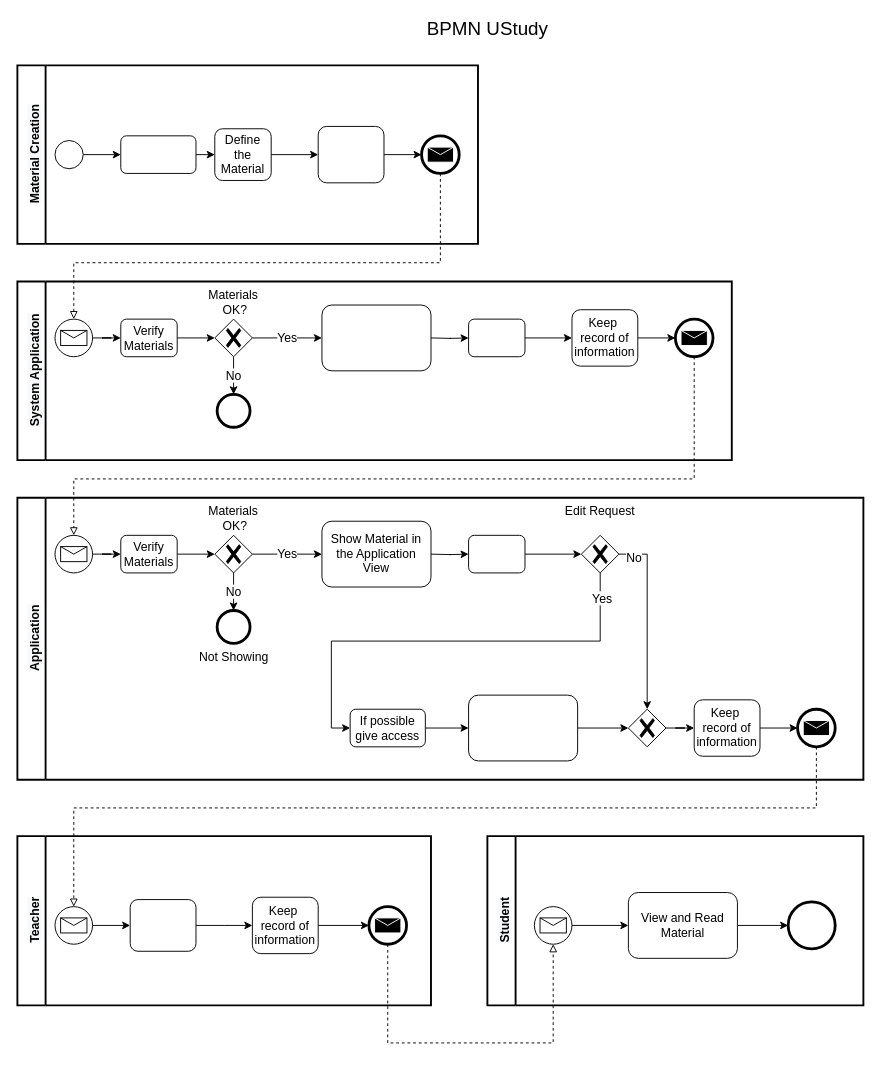
The diagram is 880 pixels wide and 1067 high, and some of its shapes have lost their labels. The centre of each missing label's shape, as x and y in pixels:
Choose Field/Subject: point (158, 154)
Edit Material: point (523, 727)
Evaluate and Check Material: point (162, 925)
Manage Field: point (496, 337)
Manage View: point (496, 553)
Save changes and data: point (350, 154)
Send Message to Uploading User: point (233, 410)
Store and Add material to the database: point (376, 337)
